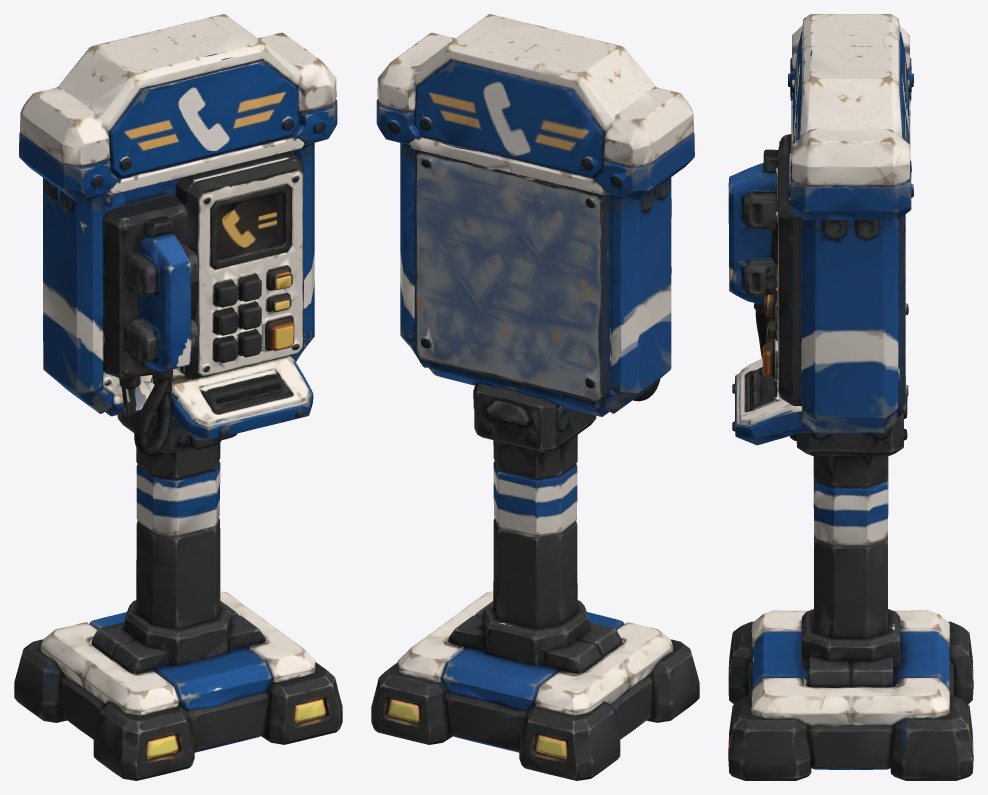
The model's file is payphone.glb.
3 views of the same model, side by side, from view 1: azimuth 30°, elevation 25°; view 2: azimuth 150°, elevation 25°; view 3: azimuth 270°, elevation 25° (orthographic).
Size of the model in its own units: 0.8146 by 1.9 by 0.6213.
1 material, 1 textured.
